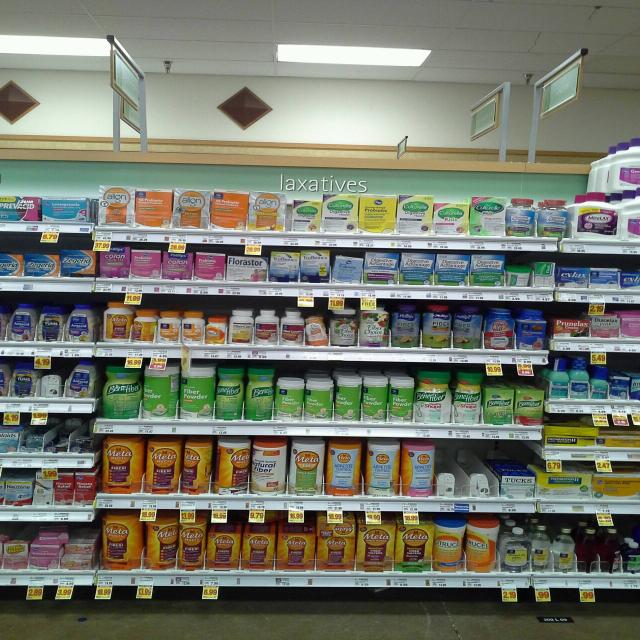empty: (441, 437, 499, 499)
